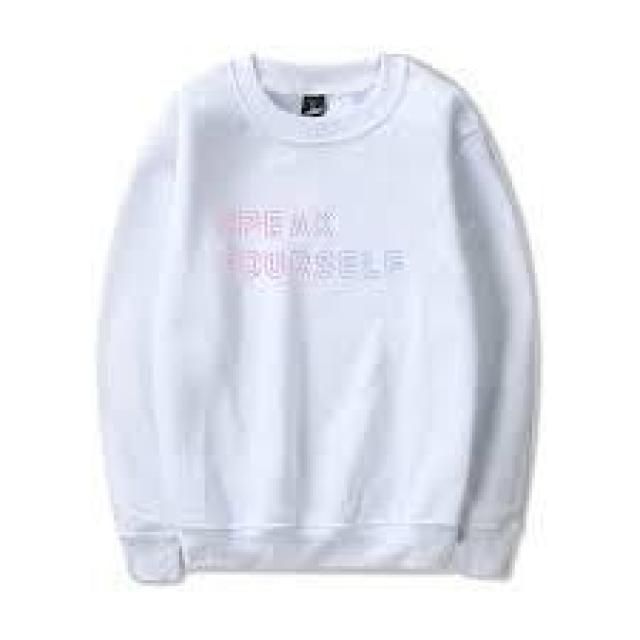sweater: (51, 41, 566, 593)
